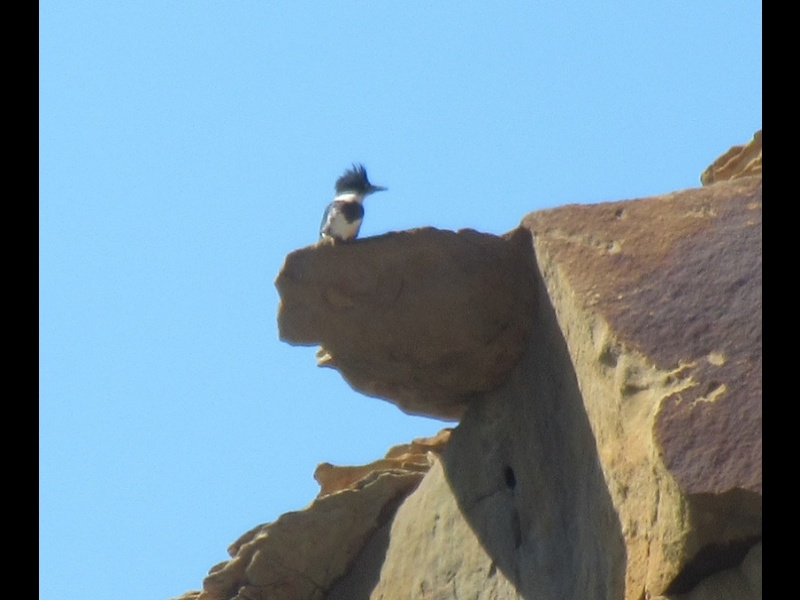kingfisher: (315, 163, 387, 251)
